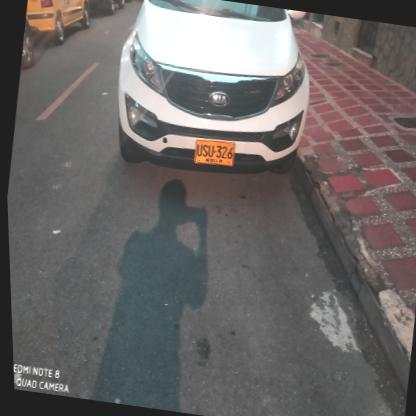placa: (188, 134, 238, 170)
